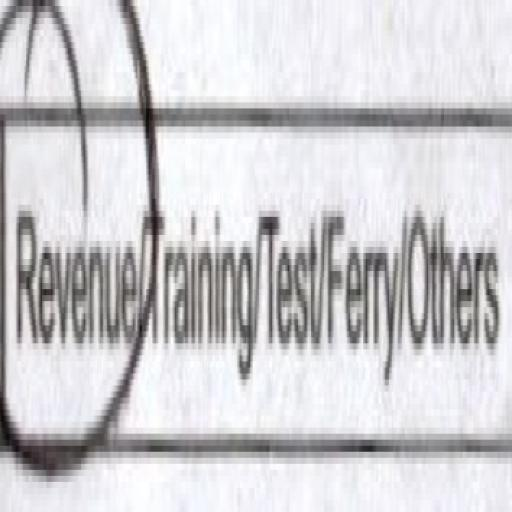check: (0, 0, 144, 501)
